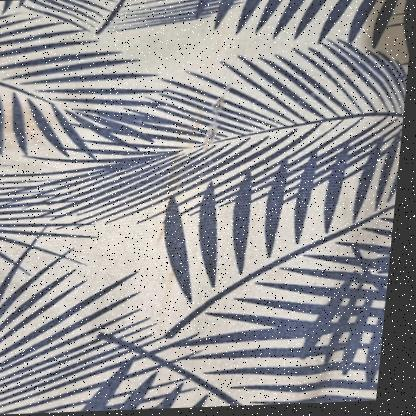spot: (0, 95, 70, 159), (156, 261, 189, 344), (155, 219, 177, 247)
